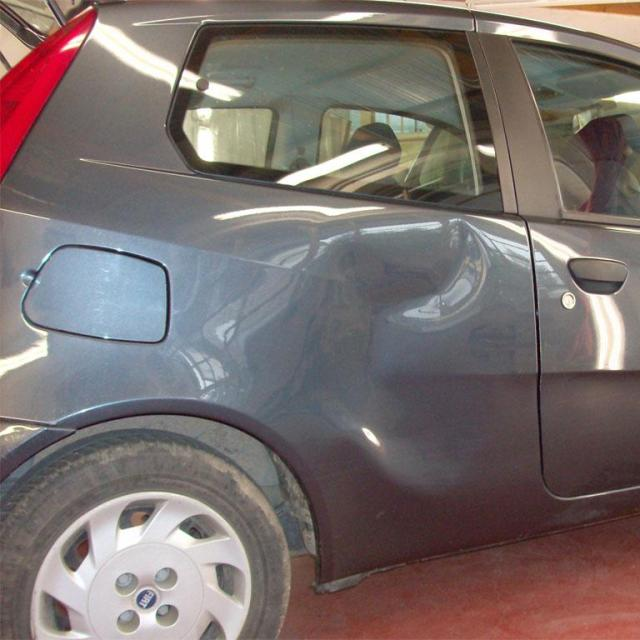dent: (245, 218, 516, 495)
